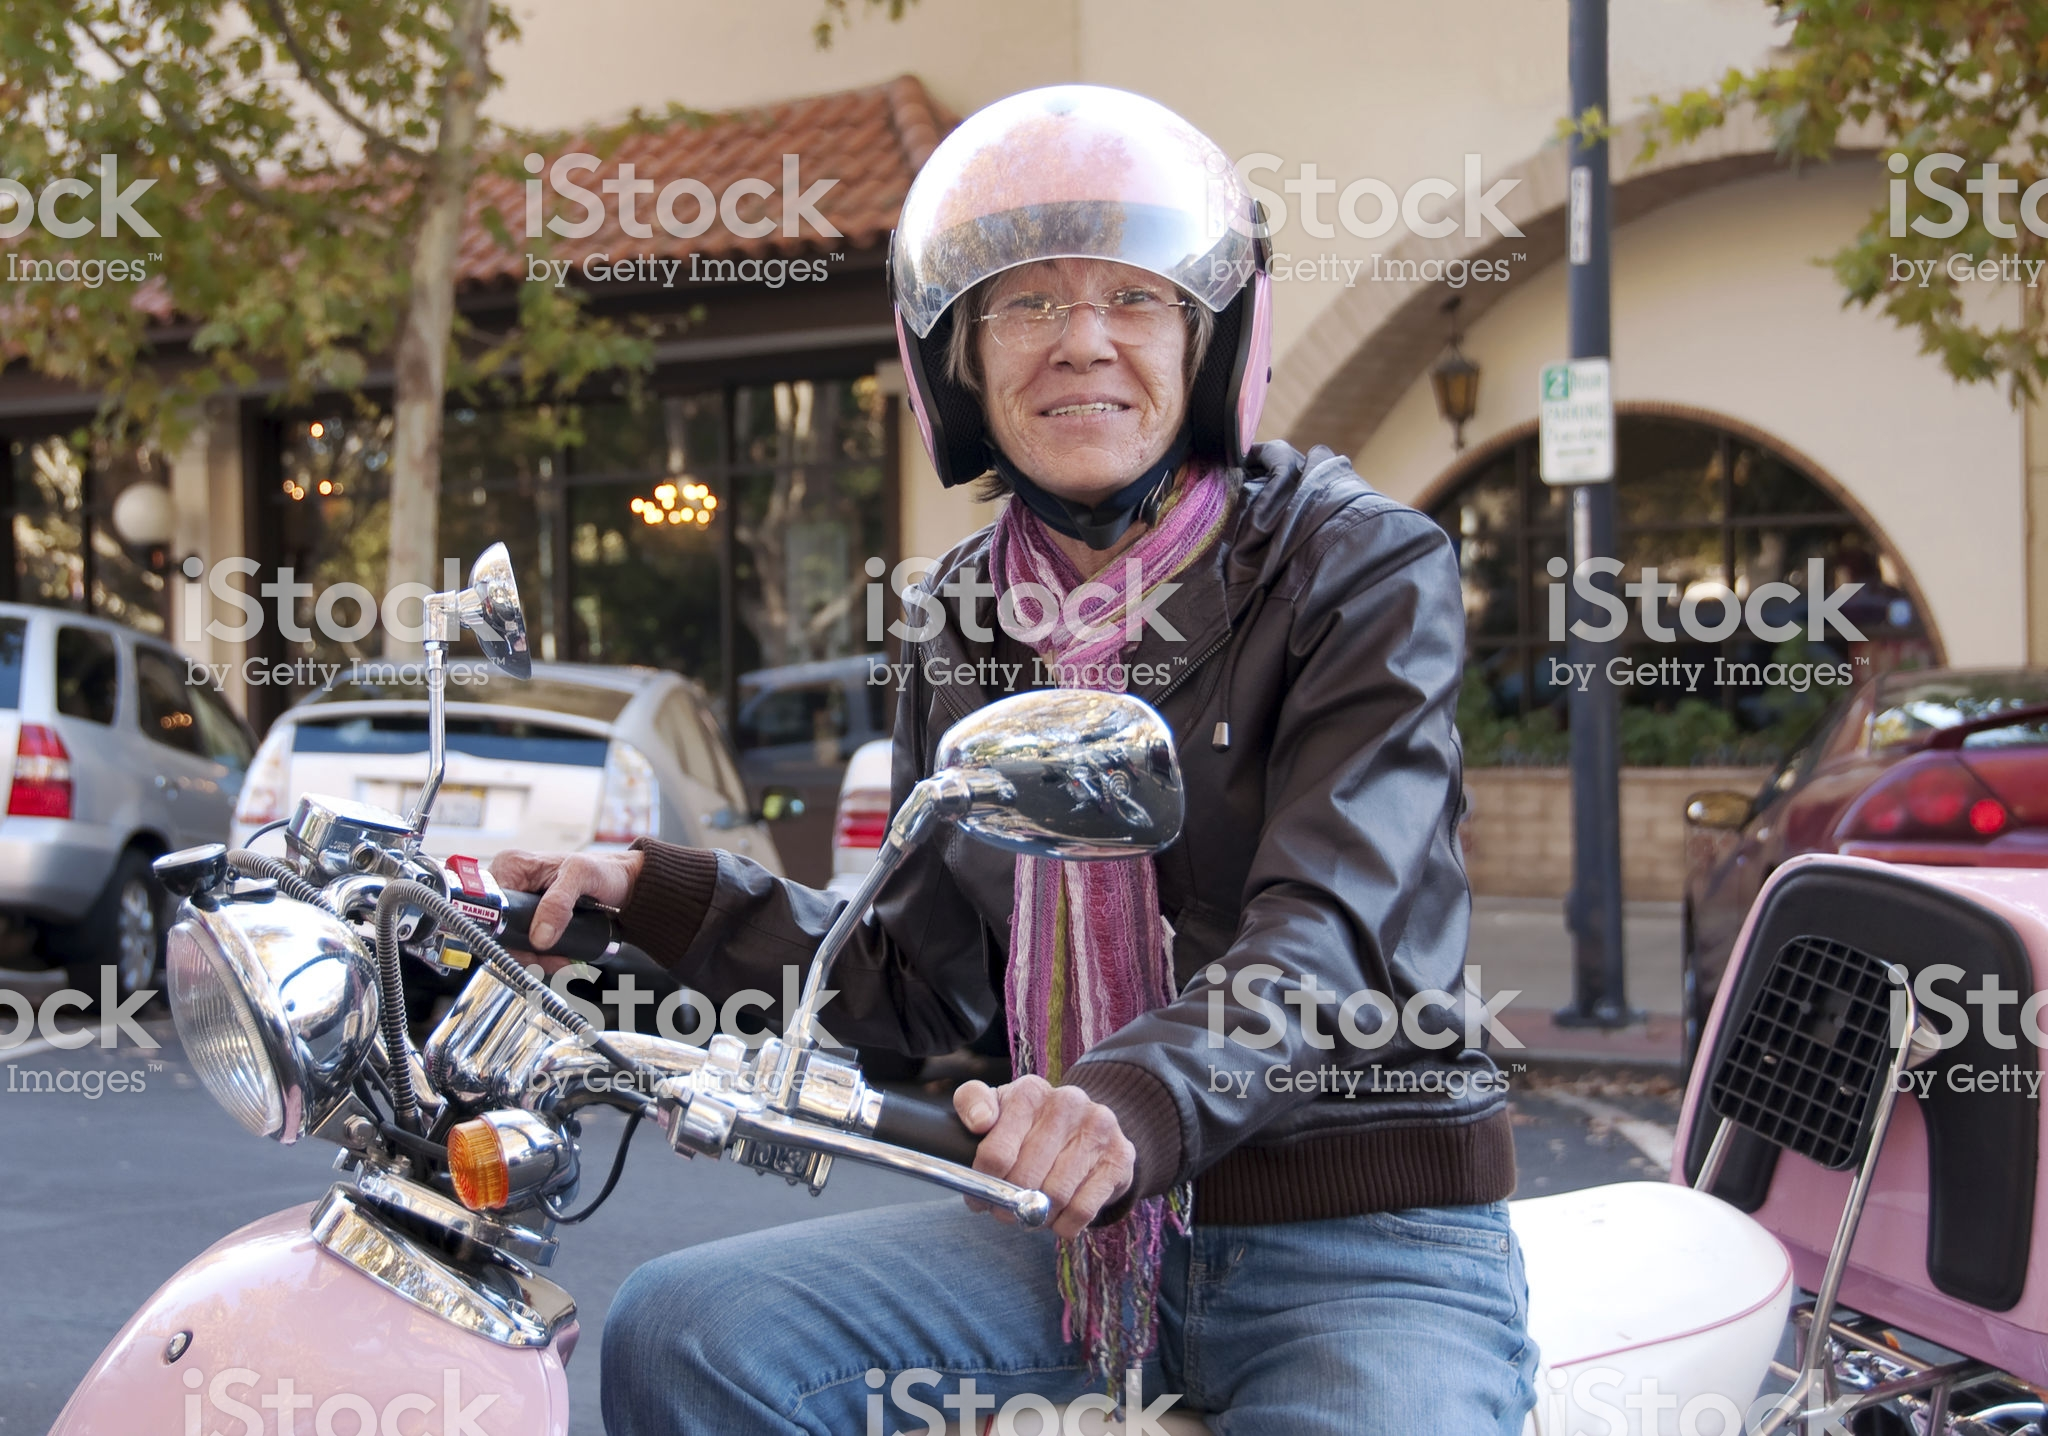helmet: (870, 101, 1303, 443)
